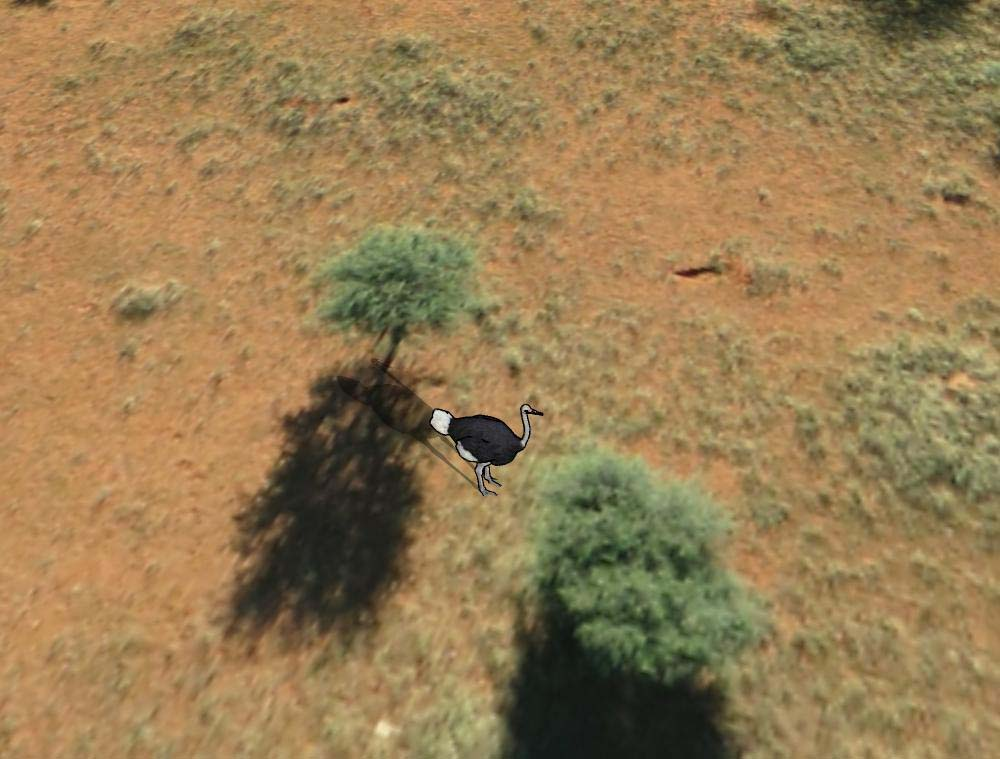springbok: (422, 394, 547, 502)
